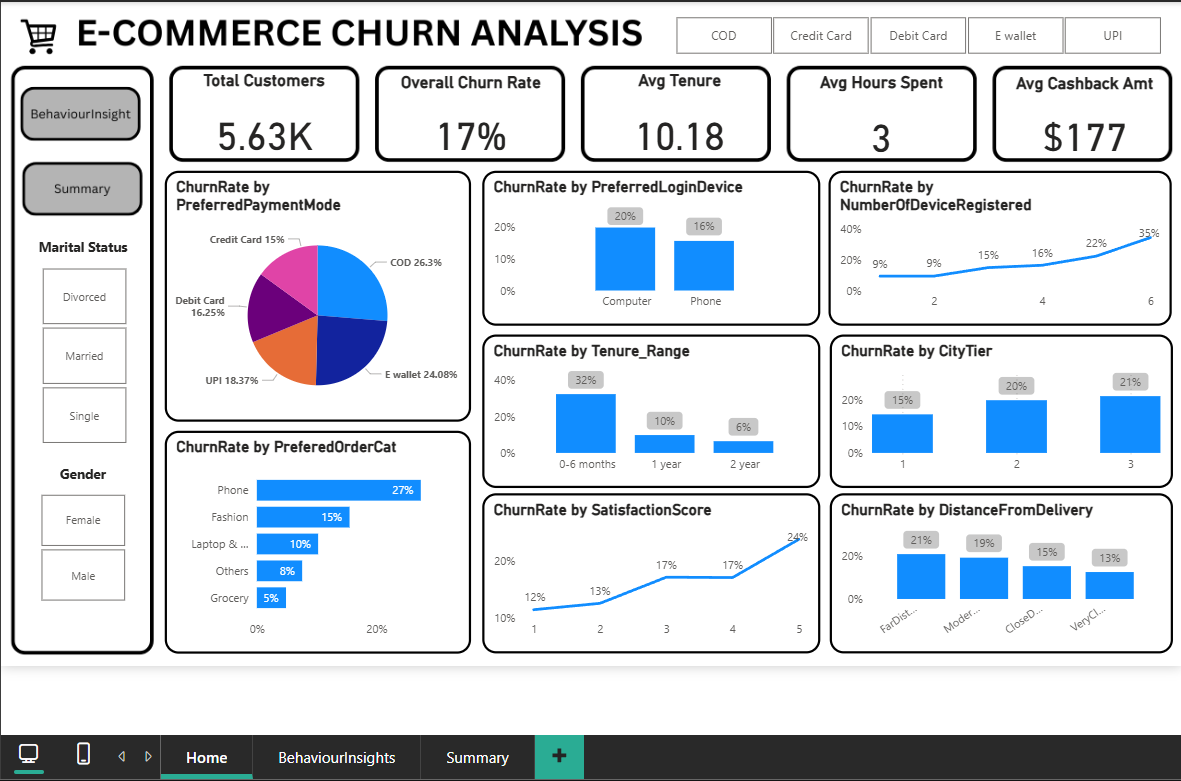

Layout of this report page (visuals, bound fields, positions):
{"tool":"powerbi","page":{"name":"Home","canvas":[1280,720],"ordinal":0},"visuals":[{"type":"cardVisual","title":"Overall Churn Rate","fields":{"Data":["E Comm.ChurnRate"]},"box":[414.6,75.9,189.7,92.1],"z":0},{"type":"slicer","fields":{"Values":["E Comm.MaritalStatus"]},"box":[19,281.8,140.9,203.2],"z":1000},{"type":"cardVisual","title":"Avg Hours Spent","fields":{"Data":["Avg(E Comm.HourSpendOnApp)"]},"box":[860.3,75.3,188.3,92.7],"z":2000},{"type":"slicer","fields":{"Values":["E Comm.PreferredPaymentMode"]},"box":[705.3,10.1,575,53.6],"z":3000},{"type":"cardVisual","title":"Avg Tenure","fields":{"Data":["Avg(E Comm.Tenure)"]},"box":[640.1,73.9,189.7,92.7],"z":4000},{"type":"cardVisual","title":"Total Customers","fields":{"Data":["Count(E Comm.CustomerID)"]},"box":[189.7,73.9,191.2,92.7],"z":5000},{"type":"cardVisual","title":"Avg Cashback Amt","fields":{"Data":["Avg(E Comm.CashbackAmount)"]},"box":[1082.5,77.2,184.3,90.8],"z":6000},{"type":"pieChart","fields":{"Category":["E Comm.PreferredPaymentMode"],"Y":["E Comm.ChurnRate"]},"box":[178.1,182.5,331.7,272.3],"z":7000},{"type":"clusteredColumnChart","fields":{"Category":["E Comm.PreferredLoginDevice"],"Y":["E Comm.ChurnRate"]},"box":[521.4,182.5,366.4,168],"z":8000},{"type":"clusteredColumnChart","fields":{"Category":["E Comm.Tenure_Range"],"Y":["E Comm.ChurnRate"]},"box":[521.4,360.6,366.4,166.6],"z":9000},{"type":"clusteredColumnChart","fields":{"Category":["E Comm.CityTier"],"Y":["E Comm.ChurnRate"]},"box":[897.9,360.6,372.2,166.6],"z":10000},{"type":"lineChart","fields":{"Category":["E Comm.NumberOfDeviceRegistered"],"Y":["E Comm.ChurnRate"]},"box":[896.5,182.5,372.2,168],"z":11000},{"type":"clusteredColumnChart","fields":{"Category":["E Comm.DistanceFromDelivery"],"Y":["E Comm.ChurnRate"]},"box":[897.9,533,372.2,173.8],"z":12000},{"type":"lineChart","fields":{"Category":["E Comm.SatisfactionScore"],"Y":["E Comm.ChurnRate"]},"box":[521.4,533,366.4,173.8],"z":13000},{"type":"clusteredBarChart","fields":{"Category":["E Comm.PreferedOrderCat"],"Y":["E Comm.ChurnRate"]},"box":[178.8,463.3,331.9,242.5],"z":14000},{"type":"slicer","fields":{"Values":["E Comm.Gender"]},"box":[17.6,527,140.9,128.7],"z":15000},{"type":"textbox","box":[19,250.6,139.5,31.2],"z":16000},{"type":"textbox","box":[19,495.9,139.5,31.2],"z":17000},{"type":"actionButton","box":[29.8,97.5,115.2,47.4],"z":18000},{"type":"actionButton","box":[29.8,182.9,115.2,47.4],"z":19000}]}

Visuals, with their boxes in screenshot pixels (x1, y1, x2, y2):
"Overall Churn Rate" cardVisual: <region>383, 75, 556, 159</region>
slicer - E Comm.MaritalStatus: <region>23, 263, 152, 447</region>
"Avg Hours Spent" cardVisual: <region>789, 75, 960, 159</region>
slicer - E Comm.PreferredPaymentMode: <region>648, 15, 1171, 64</region>
"Avg Tenure" cardVisual: <region>589, 73, 761, 158</region>
"Total Customers" cardVisual: <region>179, 73, 353, 158</region>
"Avg Cashback Amt" cardVisual: <region>991, 76, 1159, 159</region>
pieChart - E Comm.PreferredPaymentMode x E Comm.ChurnRate: <region>168, 172, 470, 420</region>
clusteredColumnChart - E Comm.PreferredLoginDevice x E Comm.ChurnRate: <region>481, 172, 814, 325</region>
clusteredColumnChart - E Comm.Tenure_Range x E Comm.ChurnRate: <region>481, 334, 814, 486</region>
clusteredColumnChart - E Comm.CityTier x E Comm.ChurnRate: <region>823, 334, 1162, 486</region>
lineChart - E Comm.NumberOfDeviceRegistered x E Comm.ChurnRate: <region>822, 172, 1161, 325</region>
clusteredColumnChart - E Comm.DistanceFromDelivery x E Comm.ChurnRate: <region>823, 491, 1162, 649</region>
lineChart - E Comm.SatisfactionScore x E Comm.ChurnRate: <region>481, 491, 814, 649</region>
clusteredBarChart - E Comm.PreferedOrderCat x E Comm.ChurnRate: <region>169, 428, 471, 648</region>
slicer - E Comm.Gender: <region>22, 486, 150, 603</region>
textbox: <region>23, 234, 150, 263</region>
textbox: <region>23, 457, 150, 486</region>
actionButton: <region>33, 95, 138, 138</region>
actionButton: <region>33, 173, 138, 216</region>
